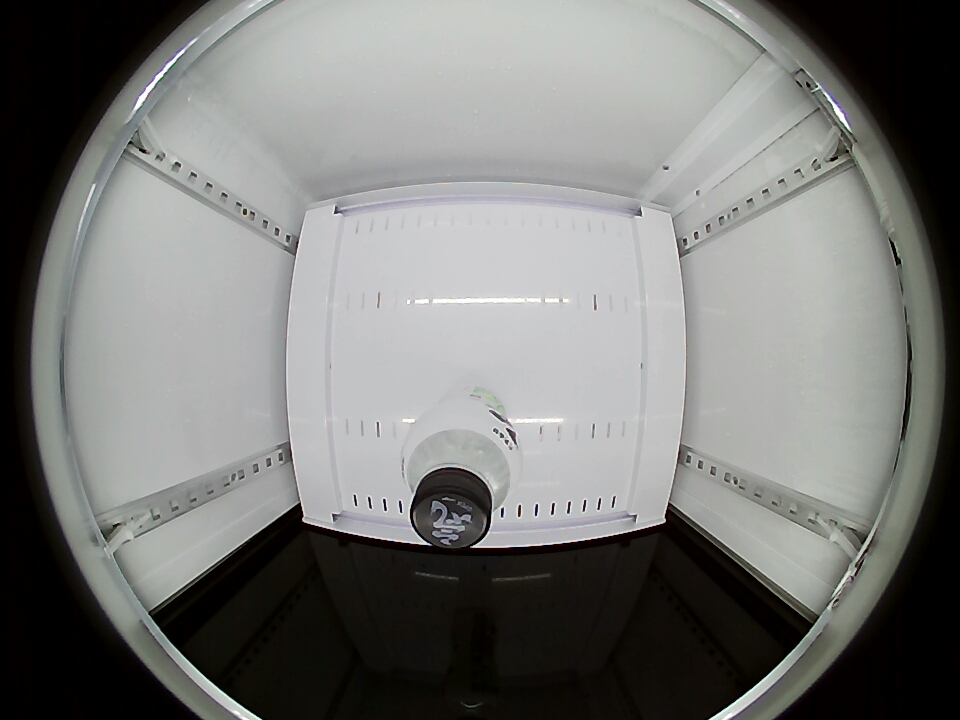yuanqishui: (402, 404, 522, 550)
